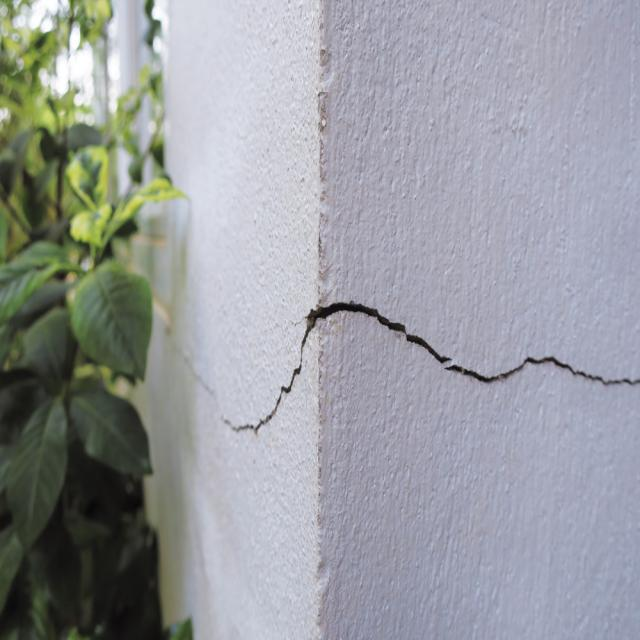Crack: (316, 300, 640, 390), (172, 304, 314, 440)
